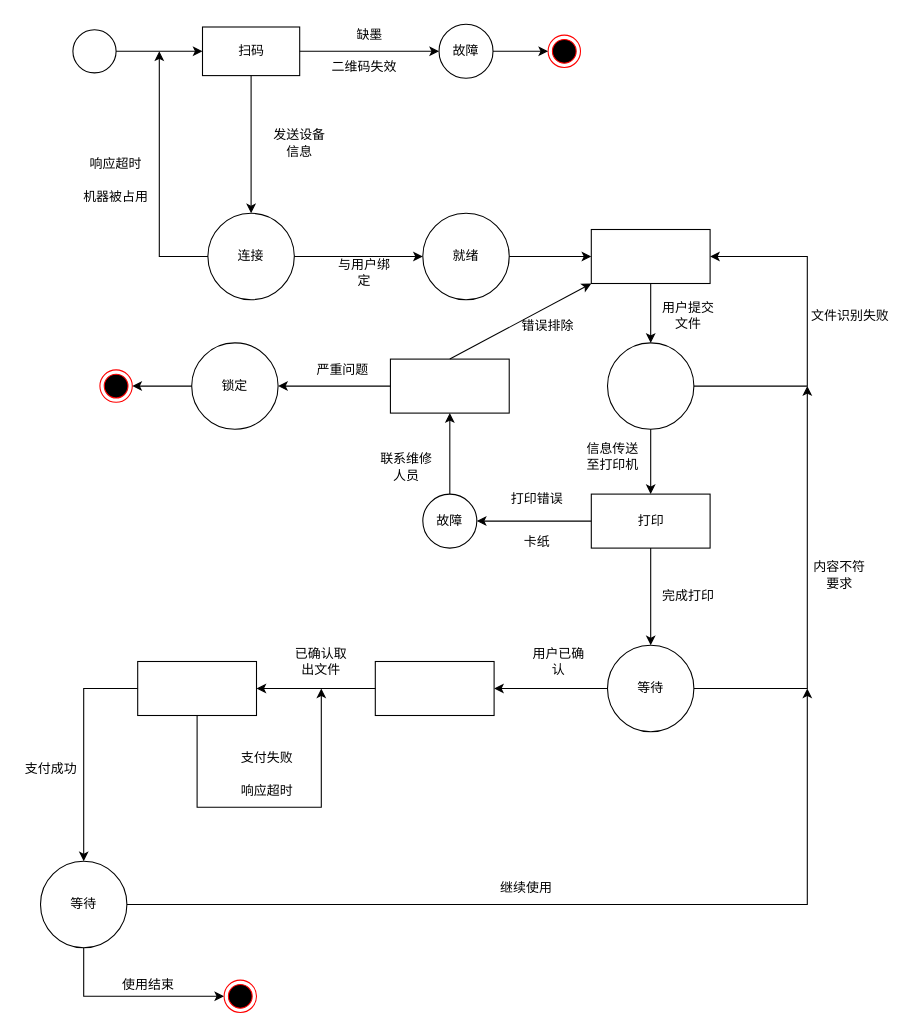
Some shapes in this 912 by 1031 pixel diagram are drawn without their labels. The centre of each missing label's shape, as x and y in pixels:
"分析" goes at (650,385).
"取纸" goes at (434,688).
"支付" goes at (196,688).
"检查" goes at (449,385).
"选择文件" goes at (650,256).
